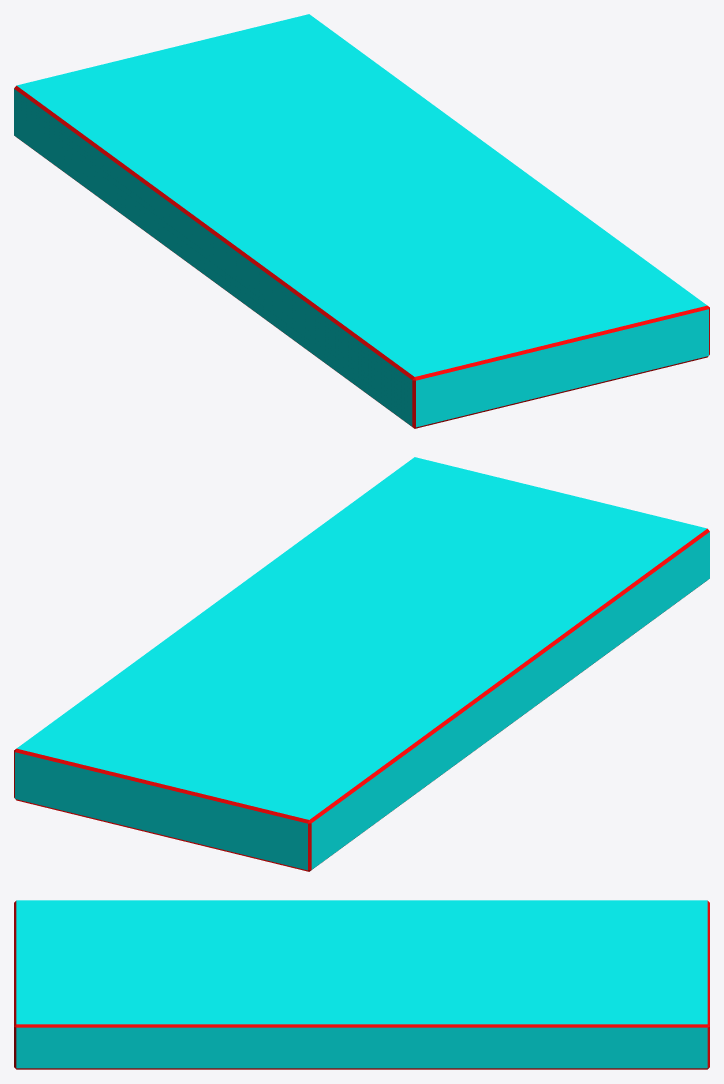
Rendered from L13_Platform.fbx.
The picture shows the model from 3 angles, top to bottom: view 1: azimuth 30°, elevation 25°; view 2: azimuth 150°, elevation 25°; view 3: azimuth 270°, elevation 25°; orthographic projection. The views are drawn at different scales.
Visible parts, largest first — view 1: L13_Platform; view 2: L13_Platform; view 3: L13_Platform.
Boxes of the visible parts, bbox=[...] form: L13_Platform: bbox=[14, 14, 709, 428]; L13_Platform: bbox=[14, 457, 709, 871]; L13_Platform: bbox=[14, 900, 709, 1069].
Size of the model in its own units: 600 by 100 by 1400.
